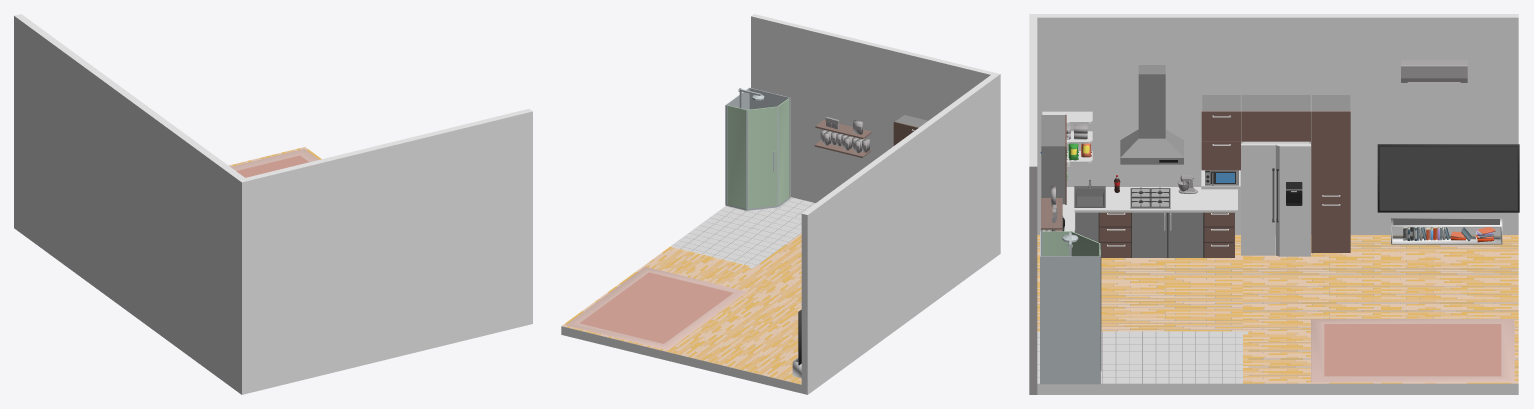
The model's file is background.glb.
3 views of the same model, side by side, from view 1: azimuth 30°, elevation 25°; view 2: azimuth 150°, elevation 25°; view 3: azimuth 270°, elevation 25° (orthographic). The views are drawn at different scales.
Parts seen in each view (by area): view 1: background; view 2: background; view 3: background.
Part boxes in pixels (<box>): background: <box>14,14,532,394</box>; background: <box>561,14,1000,394</box>; background: <box>1029,14,1519,394</box>.
Bounding box in the file's own units: 6.04 × 4.2 × 8.18.
1 material, 1 textured.
